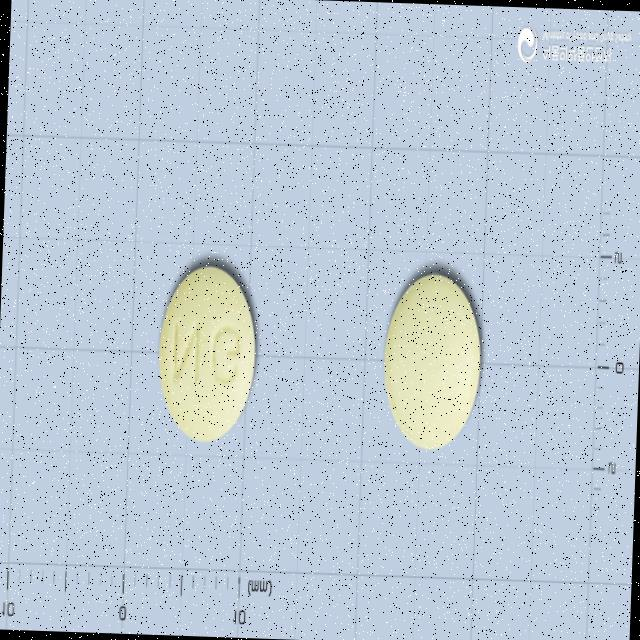Nevolaxin Tablet: (155, 261, 259, 443)
